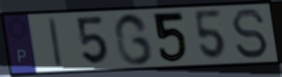5: (150, 10, 191, 64), (74, 13, 112, 67), (192, 8, 228, 63)
G: (112, 11, 155, 67)
I: (46, 16, 65, 69)
S: (229, 8, 270, 61)
